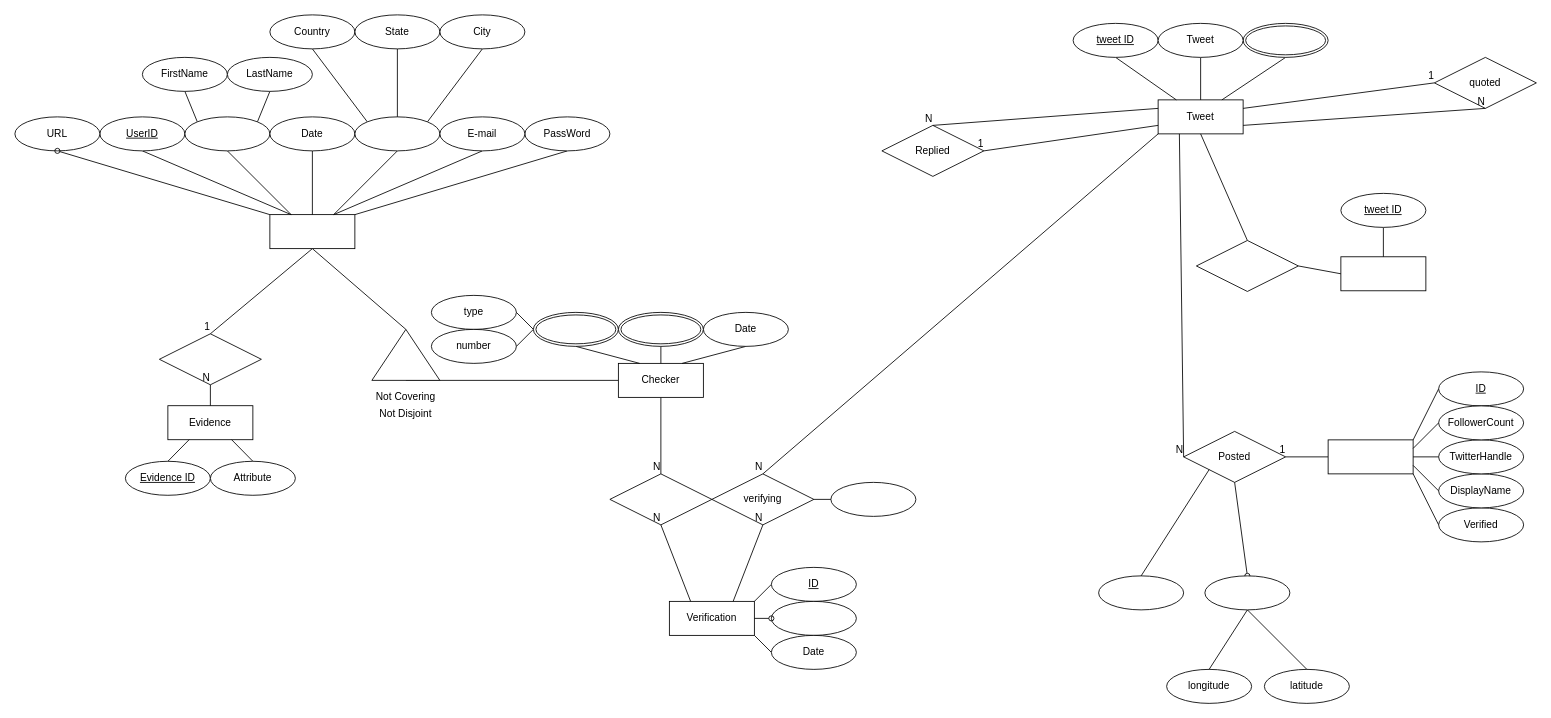
The diagram is 1551 pixels wide and 718 high, and some of its shapes have lost their labels. The shapes that lost their labels are listed below. From the top down, each one's box as (x1, y1, x2, y2) in pixels, then its label:
(1242, 23, 1328, 57): HashTag
(184, 116, 270, 151): Name
(354, 116, 440, 151): Address
(269, 214, 355, 249): User
(1196, 240, 1298, 291): Processed
(1340, 256, 1426, 291): RawTweet
(533, 312, 618, 346): PhoneNumber
(618, 312, 703, 346): Field
(159, 333, 261, 385): submit
(371, 329, 440, 380): IsA
(1327, 439, 1413, 474): Tweeter
(609, 473, 712, 525): submit verification
(830, 482, 916, 516): about tweet?
(1098, 575, 1184, 610): posted time
(1204, 575, 1290, 610): Posted location
(771, 601, 856, 635): Comment
